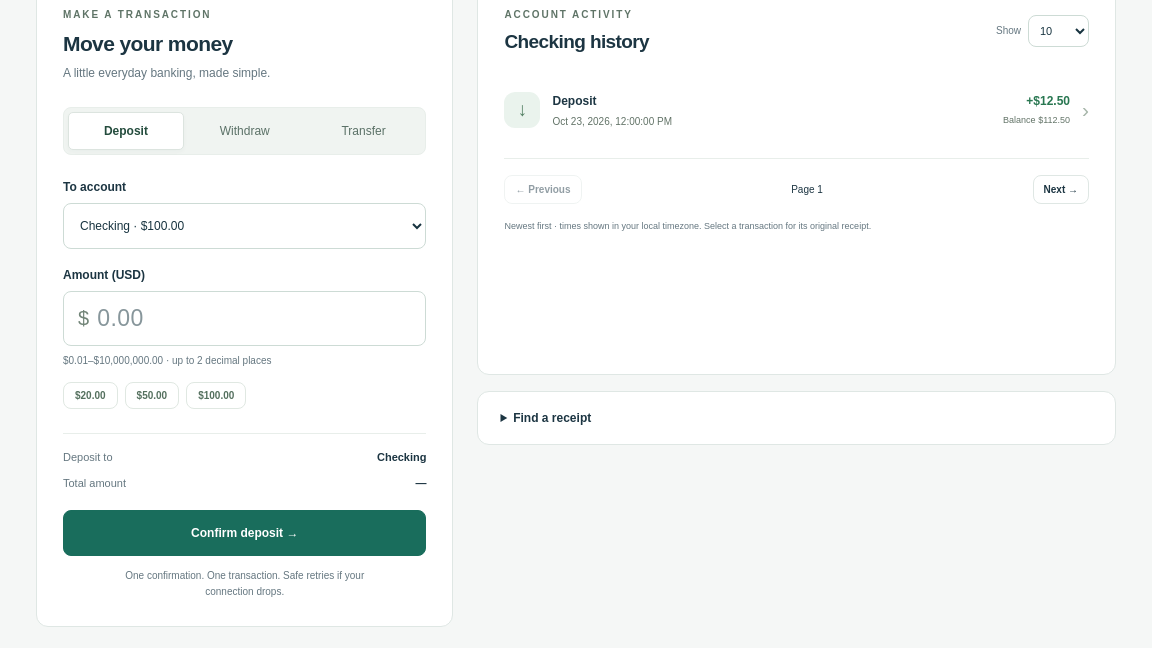
Scenario: does not send if saving recovery fails
(page scrolled)
Expected: the button "Confirm deposit →" is enabled, [63,510,426,556]
Type "12.50" into the field labelled "Amount (USD)" at (261, 318), box [97,292,426,345]
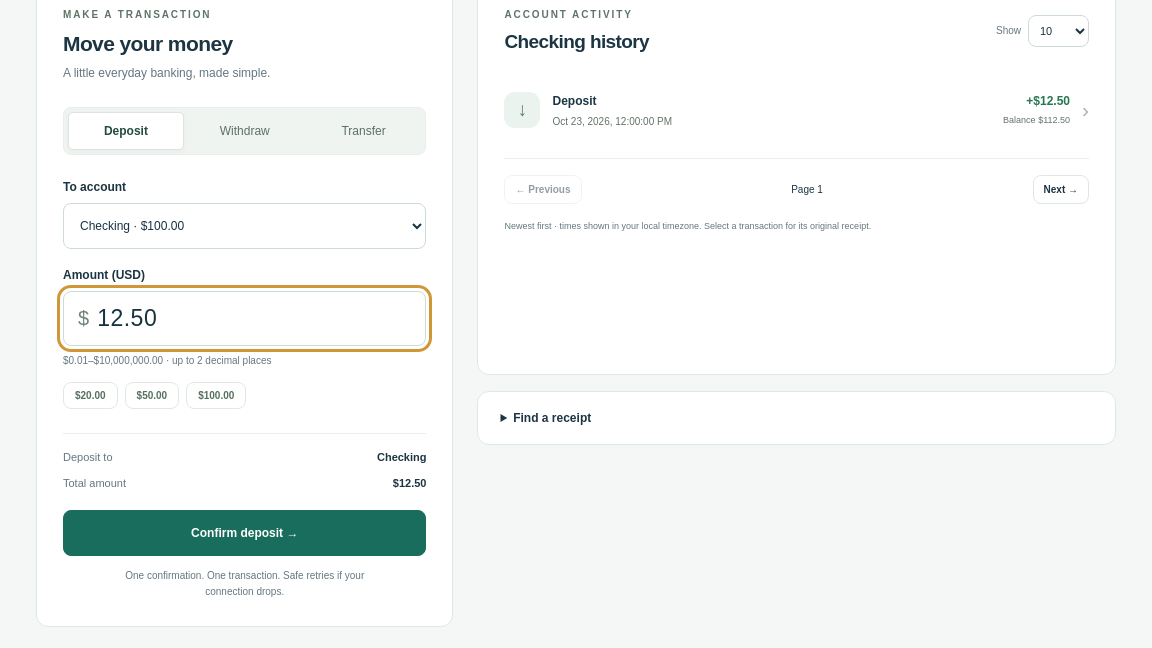
Click the button "Confirm deposit →" at (245, 533), box [63,510,426,556]
(page scrolled)
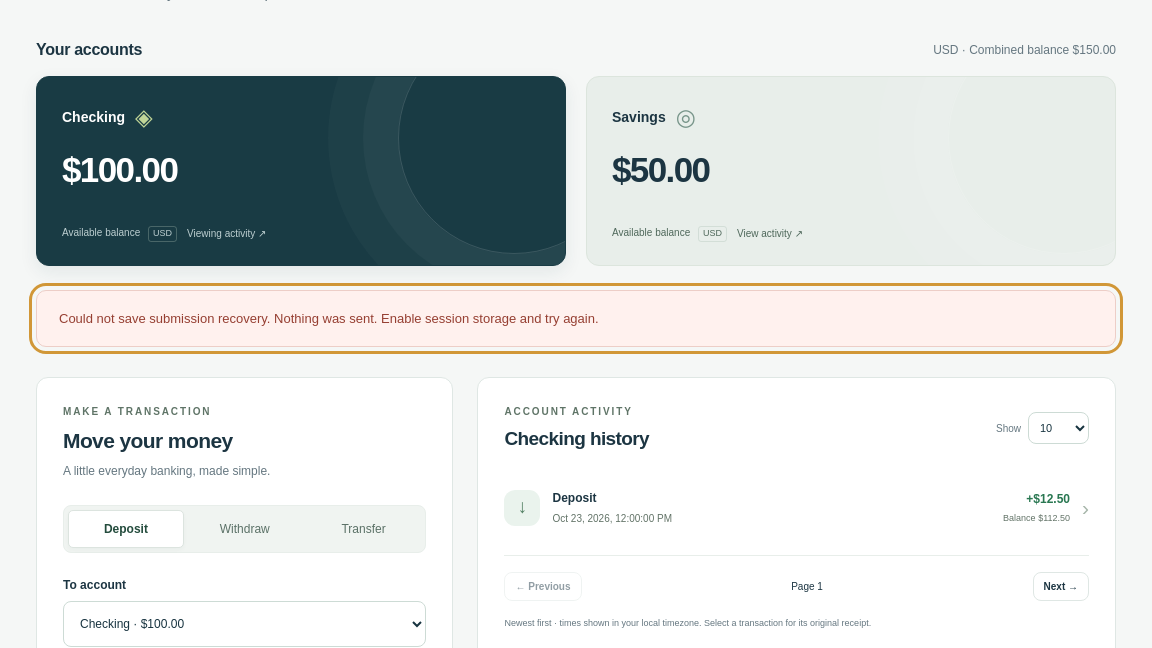
Expected: the text "Could not save submission recovery" is shown, [59,311,599,326]
